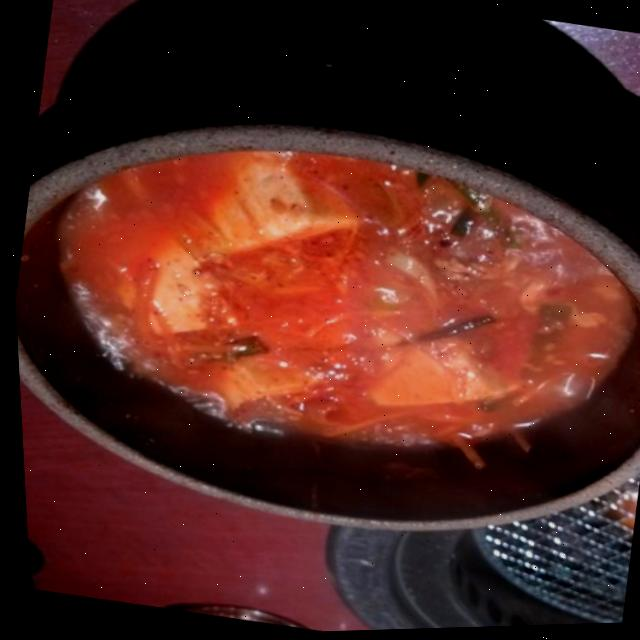汤锅炖物: (3, 70, 640, 586)
